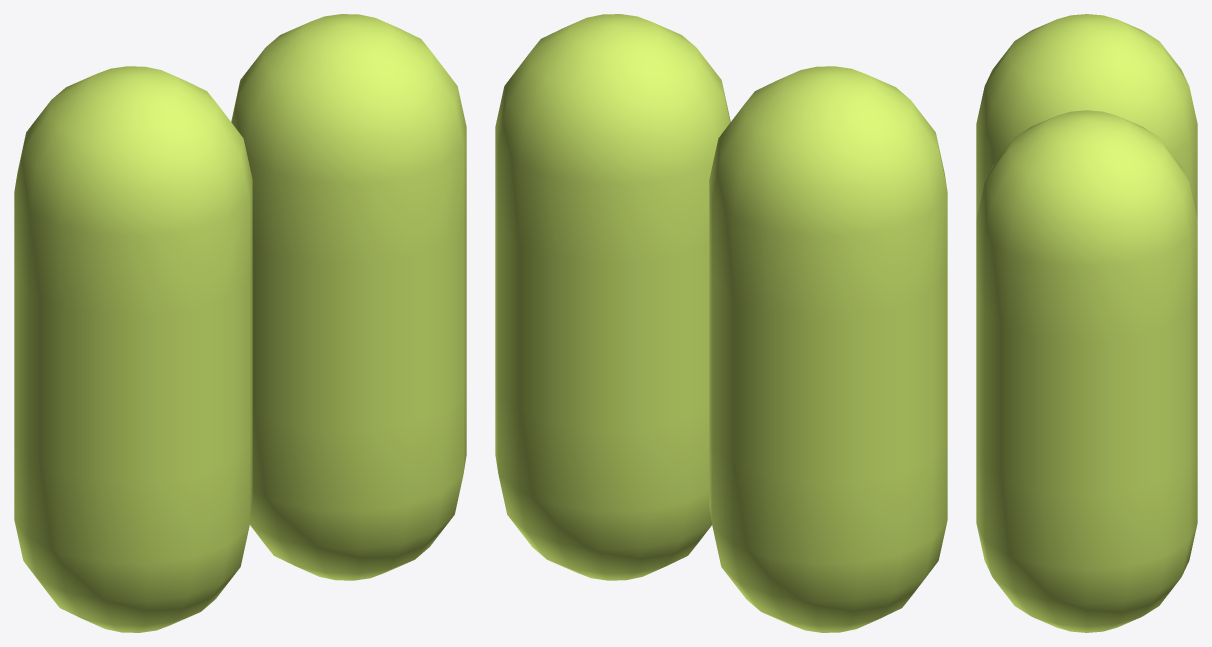
File: Legs0.glb
3 views of the same model, side by side, from view 1: azimuth 30°, elevation 25°; view 2: azimuth 150°, elevation 25°; view 3: azimuth 270°, elevation 25° (orthographic). The views are drawn at different scales.
Parts seen in each view (by area): view 1: Legs0; view 2: Legs0; view 3: Legs0.
Part boxes in pixels (x1,y1,x2,y2): Legs0: (14,14,466,632); Legs0: (495,14,947,632); Legs0: (976,14,1197,632).
Bounding box in the file's own units: 162 × 200 × 80.
